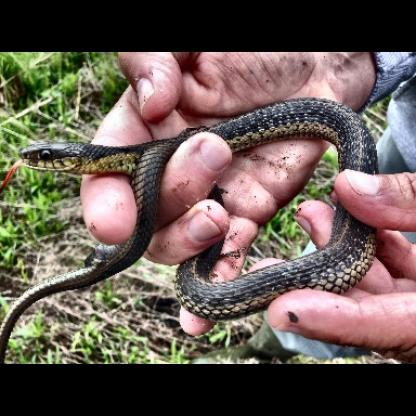Snake: (0, 95, 406, 339)
